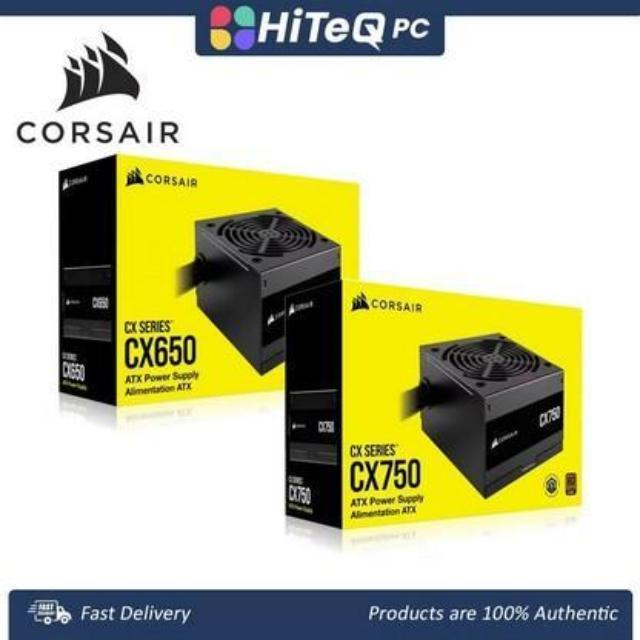PSU: (414, 317, 572, 497), (194, 189, 348, 369)
